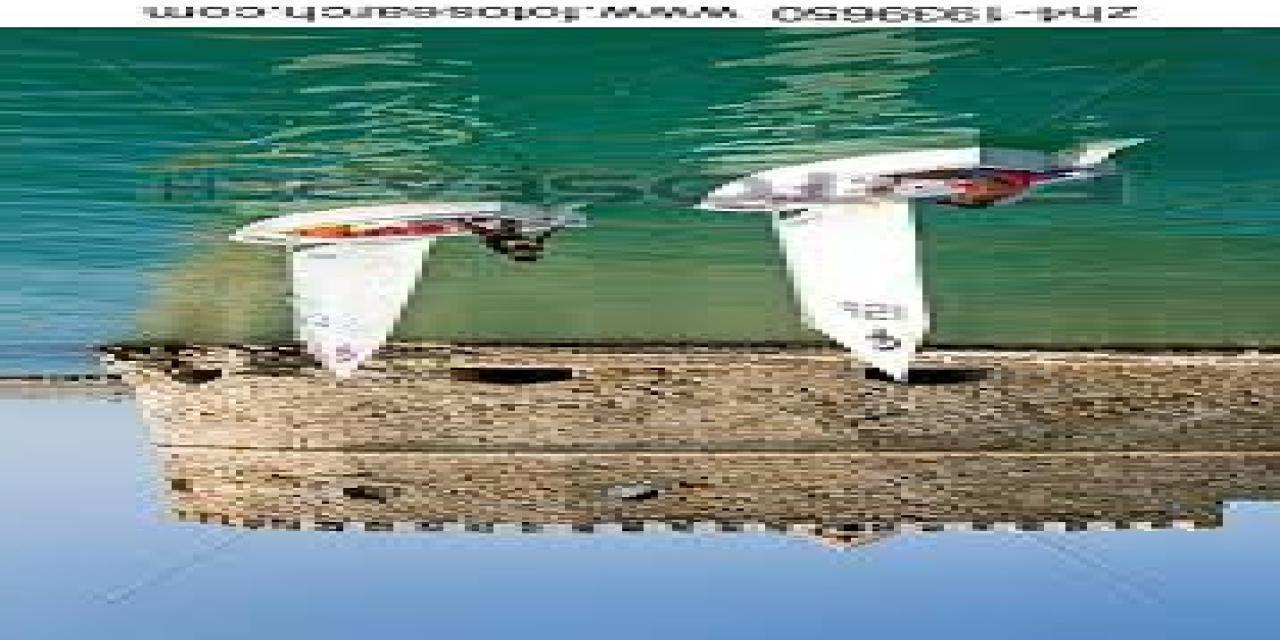Kules: (88, 347, 1280, 557)
